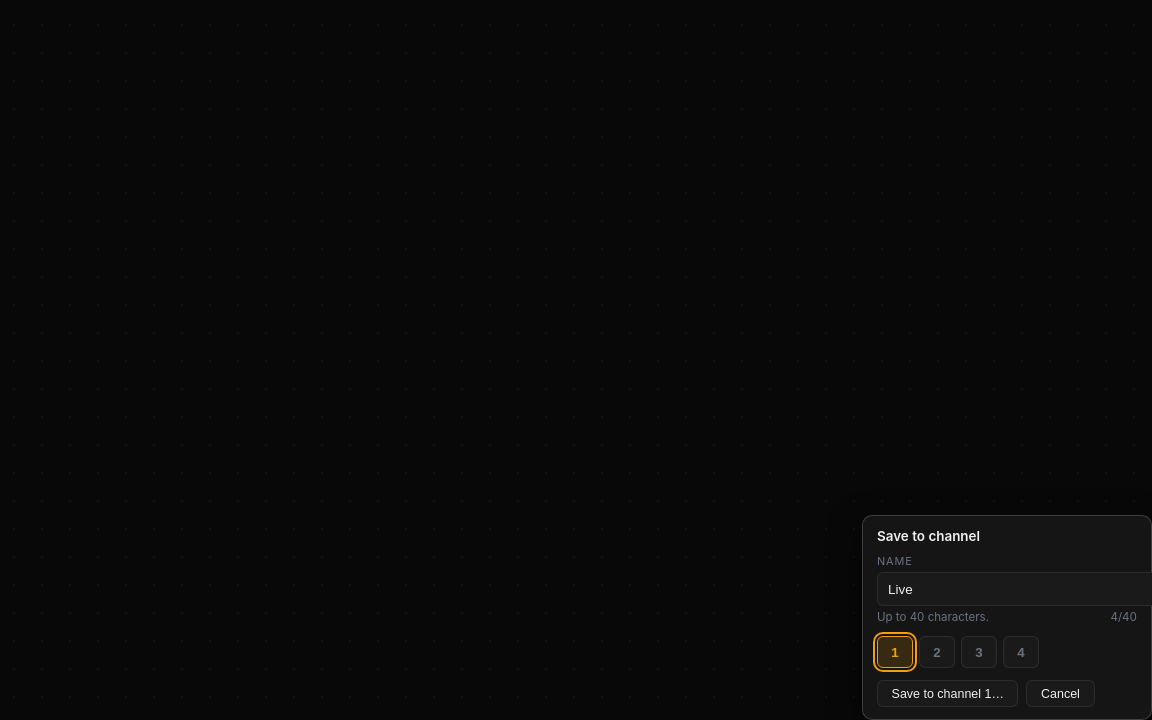
Scenario: keyboard channel mappings › lets a digit typed into the Save to Amp name field type instead of switching the amp
The image size is (1152, 720).
(page scrolled)
Click the field labelled "Name" at coordinates (1014, 589), box [877,572,1151,606]
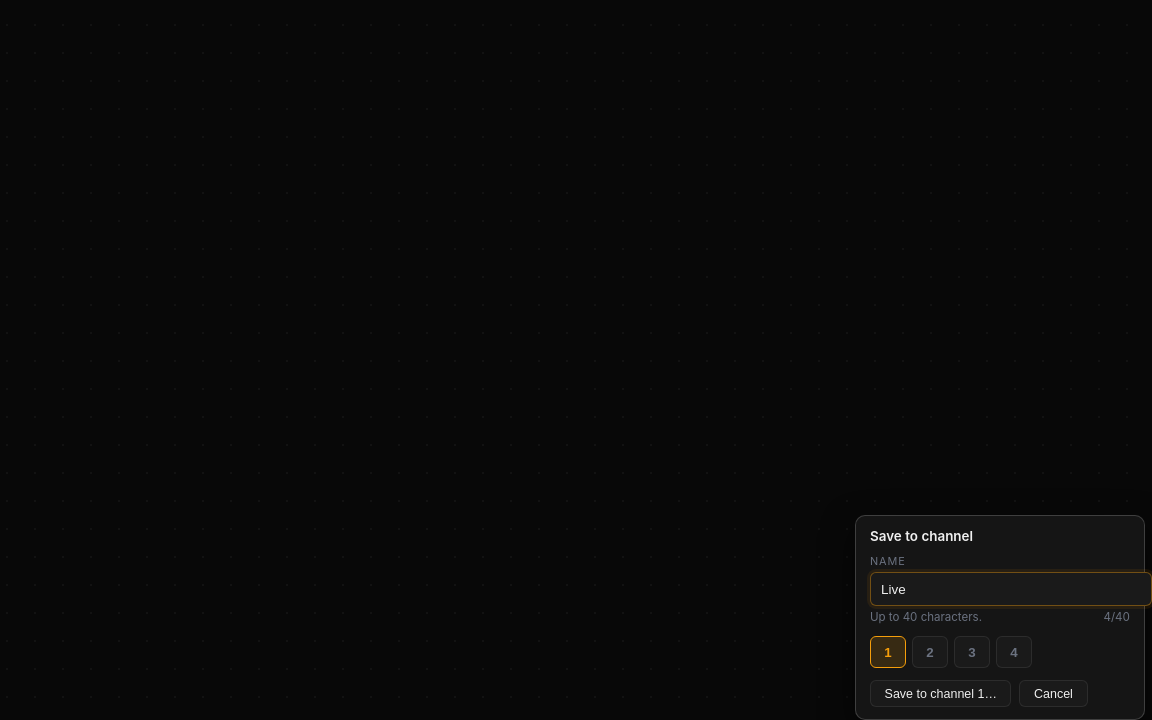
Type keys "{End}3"
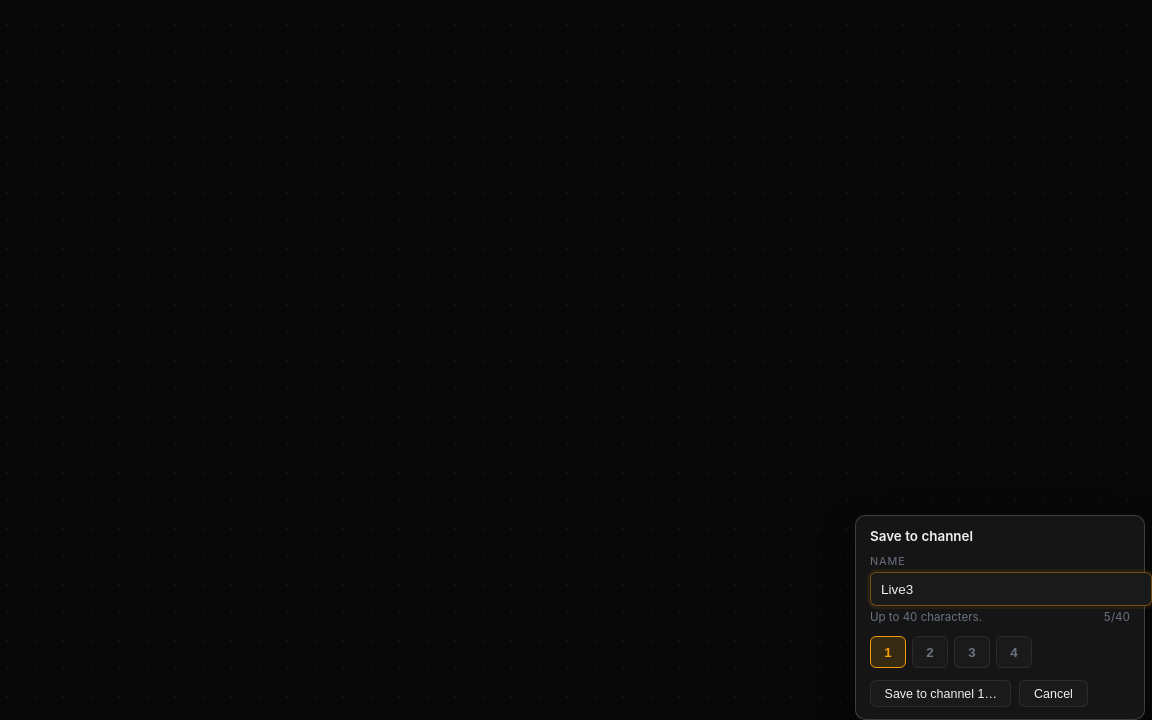
Expected: the field labelled "Name" holds "Live3", [870,572,1151,606]
